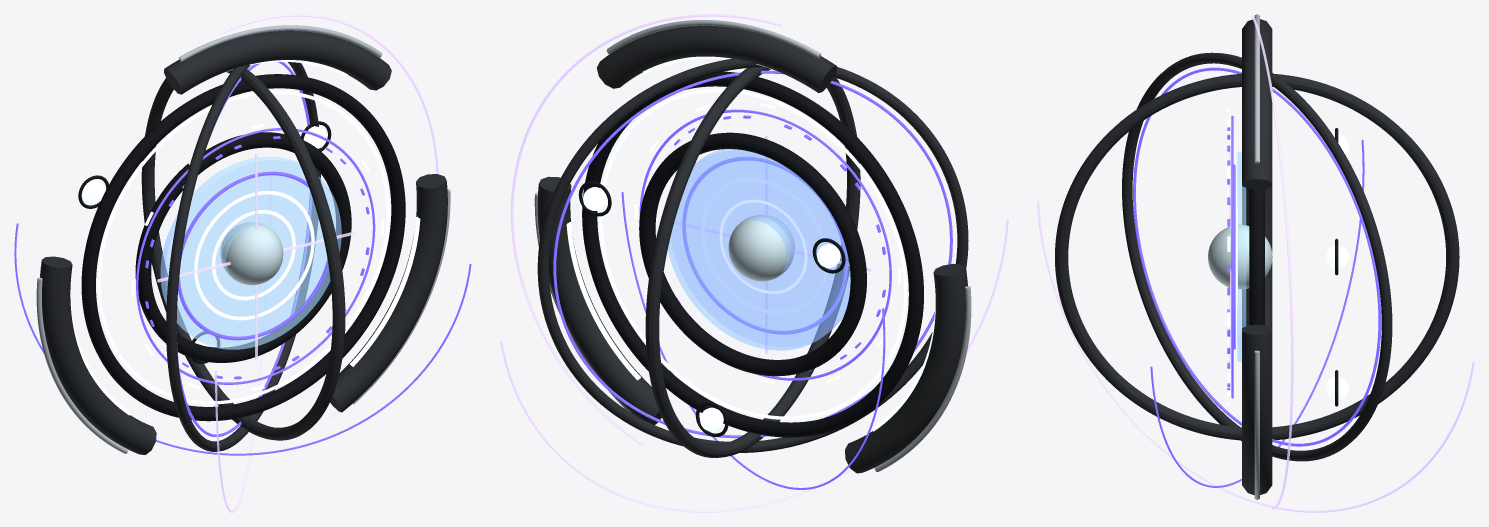
Rendered from TeleportBall_BaseModel.fbx.
3 renders of one model, left to right at view 1: azimuth 30°, elevation 25°; view 2: azimuth 150°, elevation 25°; view 3: azimuth 270°, elevation 25°, orthographic. The views are drawn at different scales.
Parts seen in each view (by area): view 1: Core_PortalAperture_GlassLens, GyroRing_FrontPortalFrame_BlackMetal, GyroRing_SidePitchFrame_BlackMetal, Core_DarkApertureOuterCollar, CBracket_FoldingPortalGuard_02, CBracket_FoldingPortalGuard_00, CBracket_FoldingPortalGuard_01, GyroRing_ObliqueSpatialFrame_BlackMetal, GyroRing_InnerIndigoEnergyTrack, Core_Singularity_WhiteBlueEnergyPoint, Core_PortalConcentricIndigoRing_03, Core_PortalConcentricIndigoRing_02 (+10 smaller); view 2: Core_PortalAperture_GlassLens, GyroRing_FrontPortalFrame_BlackMetal, GyroRing_ObliqueSpatialFrame_BlackMetal, Core_DarkApertureOuterCollar, GyroRing_SidePitchFrame_BlackMetal, CBracket_FoldingPortalGuard_00, CBracket_FoldingPortalGuard_01, CBracket_FoldingPortalGuard_02, GyroRing_InnerIndigoEnergyTrack, Core_Singularity_WhiteBlueEnergyPoint, GyroRing_ObliqueIndigoEnergyTrack, Hologram_OrbitArc_BlueViolet_00 (+9 smaller); view 3: GyroRing_SidePitchFrame_BlackMetal, GyroRing_ObliqueSpatialFrame_BlackMetal, CBracket_FoldingPortalGuard_02, CBracket_FoldingPortalGuard_00, GyroRing_ObliqueIndigoEnergyTrack, Core_Singularity_WhiteBlueEnergyPoint, GyroRing_FrontPortalFrame_BlackMetal, Hologram_OrbitArc_BlueViolet_01, Core_PortalAperture_GlassLens, Hologram_OrbitArc_BlueViolet_00, CBracket_FoldingPortalGuard_01, Hologram_OrbitArc_BlueViolet_02 (+4 smaller).
Part boxes in pixels (<box>): Core_PortalAperture_GlassLens: <box>160,156,341,349</box>; GyroRing_FrontPortalFrame_BlackMetal: <box>81,74,405,421</box>; GyroRing_SidePitchFrame_BlackMetal: <box>141,69,345,440</box>; Core_DarkApertureOuterCollar: <box>135,132,351,362</box>; CBracket_FoldingPortalGuard_02: <box>330,174,447,412</box>; CBracket_FoldingPortalGuard_00: <box>164,30,391,94</box>; CBracket_FoldingPortalGuard_01: <box>40,256,156,454</box>; GyroRing_ObliqueSpatialFrame_BlackMetal: <box>166,62,320,451</box>; GyroRing_InnerIndigoEnergyTrack: <box>97,90,389,404</box>; Core_Singularity_WhiteBlueEnergyPoint: <box>220,222,283,285</box>; Core_PortalConcentricIndigoRing_03: <box>136,128,375,384</box>; Core_PortalConcentricIndigoRing_02: <box>178,171,328,340</box>; Core_PortalAperture_GlassLens: <box>667,149,850,350</box>; GyroRing_FrontPortalFrame_BlackMetal: <box>582,71,923,437</box>; GyroRing_ObliqueSpatialFrame_BlackMetal: <box>537,58,968,452</box>; Core_DarkApertureOuterCollar: <box>639,132,866,376</box>; GyroRing_SidePitchFrame_BlackMetal: <box>645,67,860,457</box>; CBracket_FoldingPortalGuard_00: <box>597,25,836,92</box>; CBracket_FoldingPortalGuard_01: <box>845,263,967,473</box>; CBracket_FoldingPortalGuard_02: <box>537,176,661,424</box>; GyroRing_InnerIndigoEnergyTrack: <box>599,89,906,419</box>; Core_Singularity_WhiteBlueEnergyPoint: <box>728,215,794,281</box>; GyroRing_ObliqueIndigoEnergyTrack: <box>553,70,952,438</box>; Hologram_OrbitArc_BlueViolet_00: <box>510,14,782,446</box>; GyroRing_SidePitchFrame_BlackMetal: <box>1055,73,1459,440</box>; GyroRing_ObliqueSpatialFrame_BlackMetal: <box>1122,52,1392,461</box>; CBracket_FoldingPortalGuard_02: <box>1242,324,1272,495</box>; CBracket_FoldingPortalGuard_00: <box>1242,19,1272,189</box>; GyroRing_ObliqueIndigoEnergyTrack: <box>1133,67,1381,446</box>; Core_Singularity_WhiteBlueEnergyPoint: <box>1208,224,1272,289</box>; GyroRing_FrontPortalFrame_BlackMetal: <box>1250,189,1264,325</box>; Hologram_OrbitArc_BlueViolet_01: <box>1037,202,1474,512</box>; Core_PortalAperture_GlassLens: <box>1237,152,1246,361</box>; Hologram_OrbitArc_BlueViolet_00: <box>1252,16,1293,510</box>; CBracket_FoldingPortalGuard_01: <box>1242,186,1272,327</box>; Hologram_OrbitArc_BlueViolet_02: <box>1150,139,1364,487</box>.
Bounding box in the file's own units: 161 × 171 × 142.
